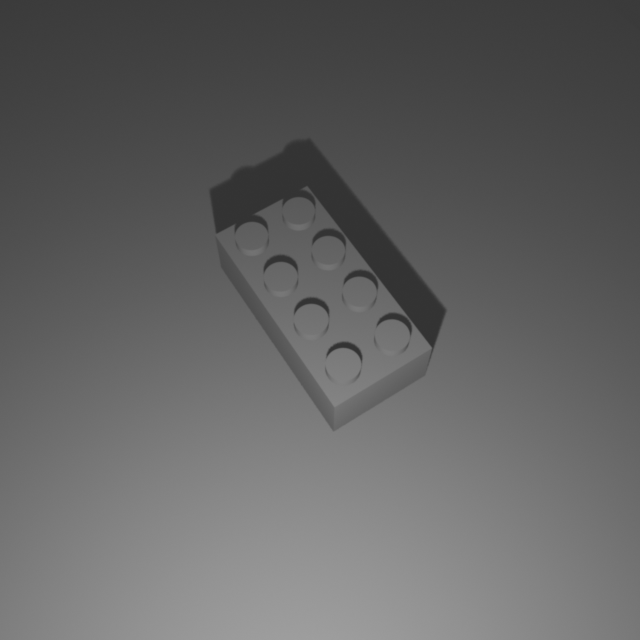lego_2x4: (214, 180, 434, 432)
